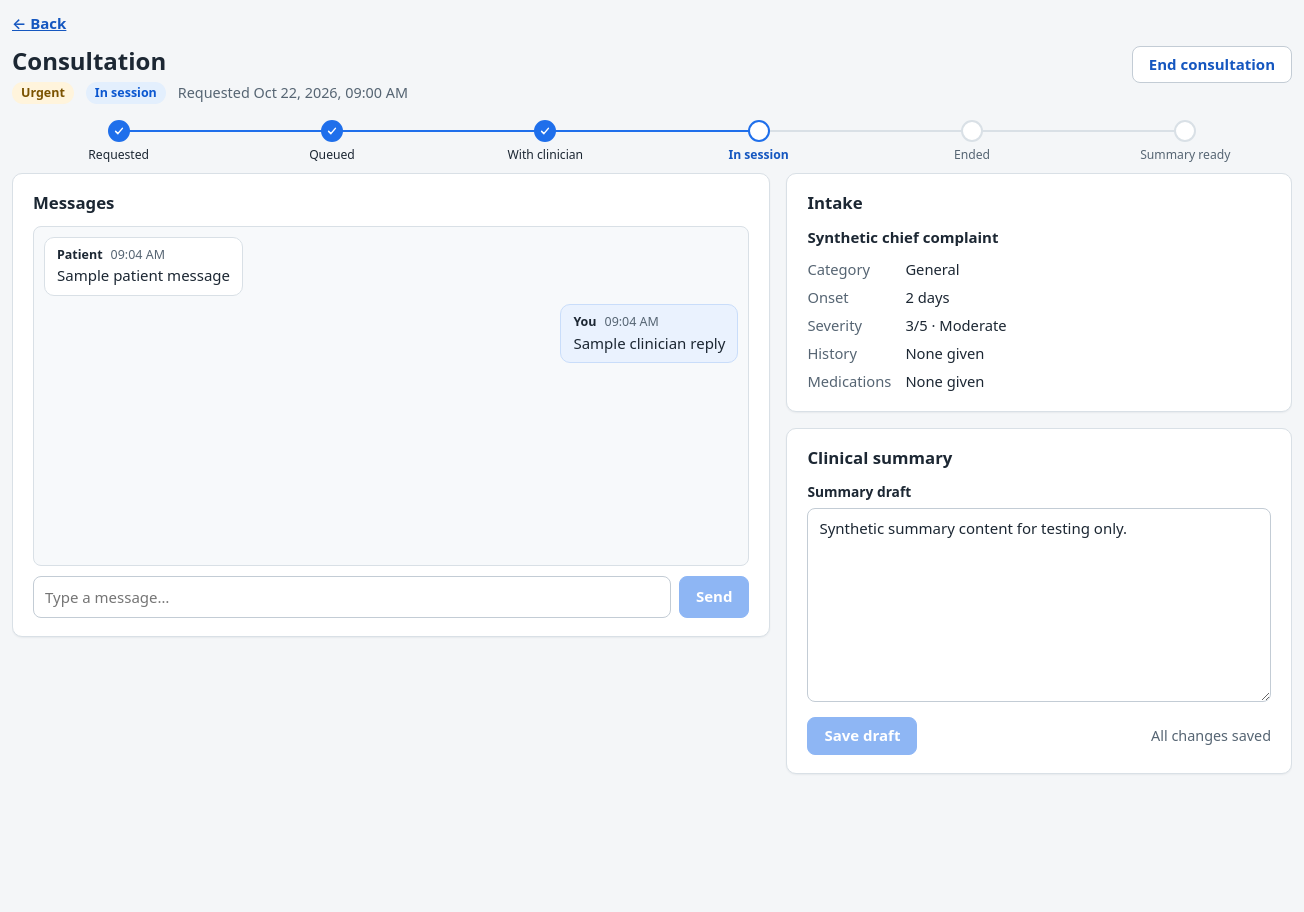
Test: ConsultationRoom screen › saves the summary draft only when the clinician clicks Save
Type " More" into the text box labelled "Summary draft" at {"x": 1039, "y": 605}, box x1=807 y1=508 x2=1271 y2=702
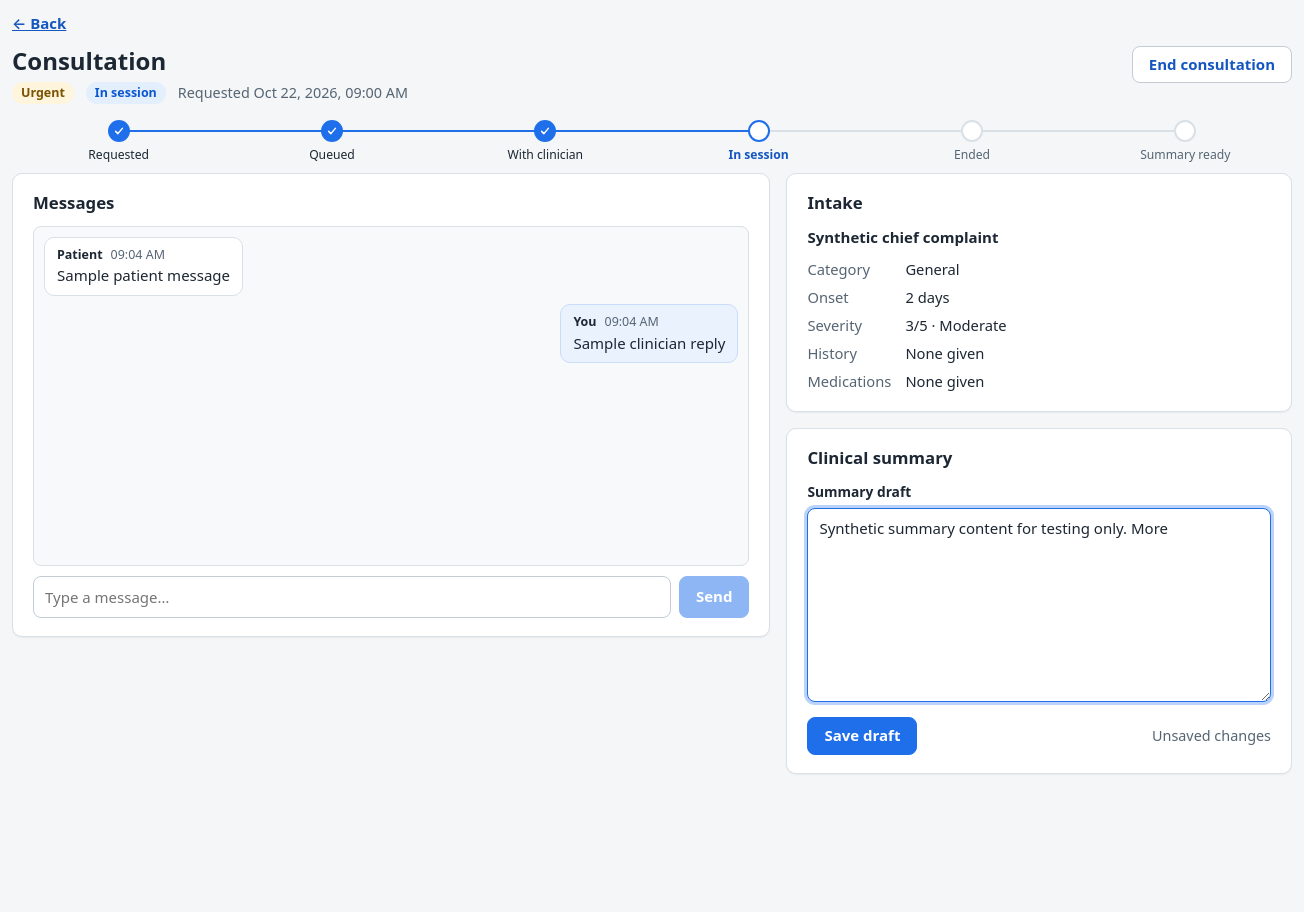
Result: the text "Unsaved changes" is shown at x1=1152 y1=725 x2=1271 y2=747
Click the button "Save draft" at {"x": 862, "y": 736}, box x1=807 y1=718 x2=917 y2=755
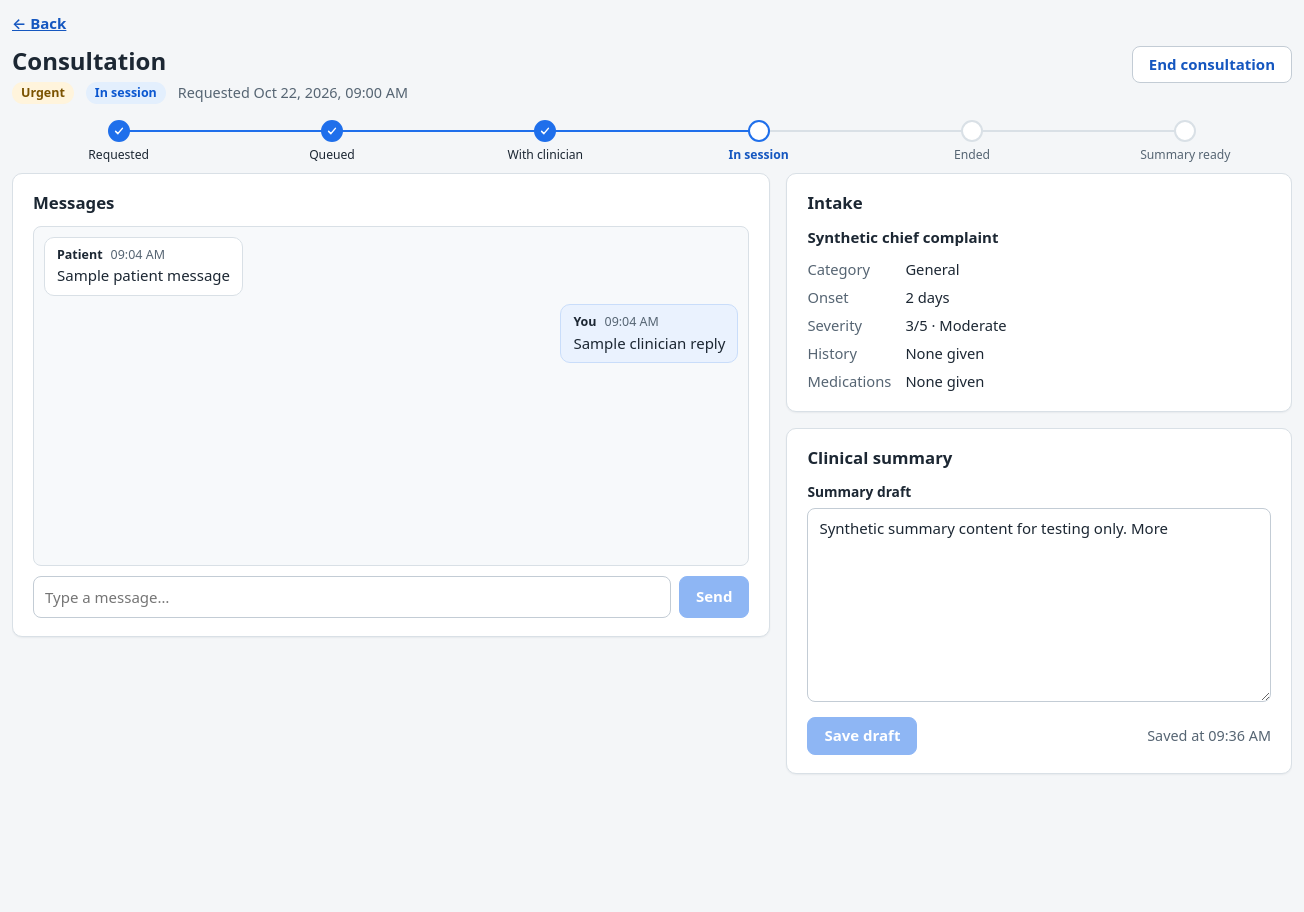
Result: the text "Saved at 09:36 AM" is shown at x1=1147 y1=725 x2=1271 y2=747
